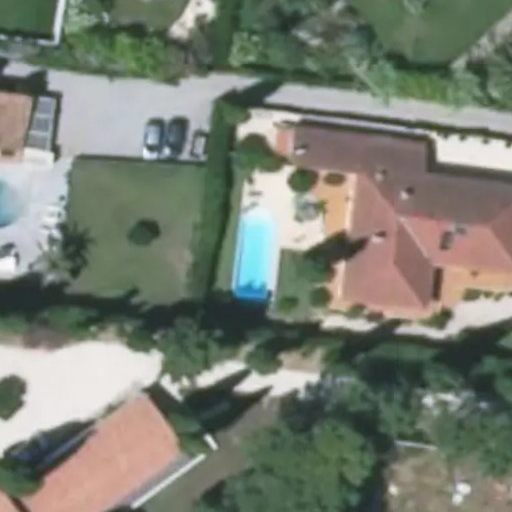pool: (236, 207, 274, 305)
